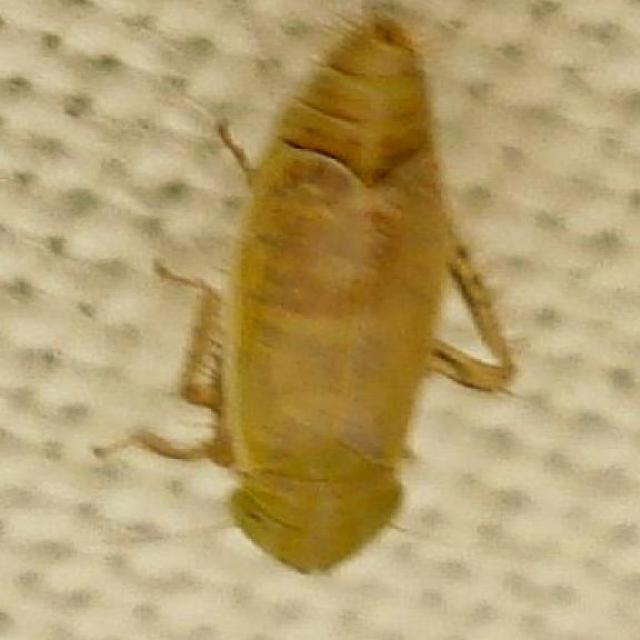green leaf hopper: (97, 17, 514, 574)
